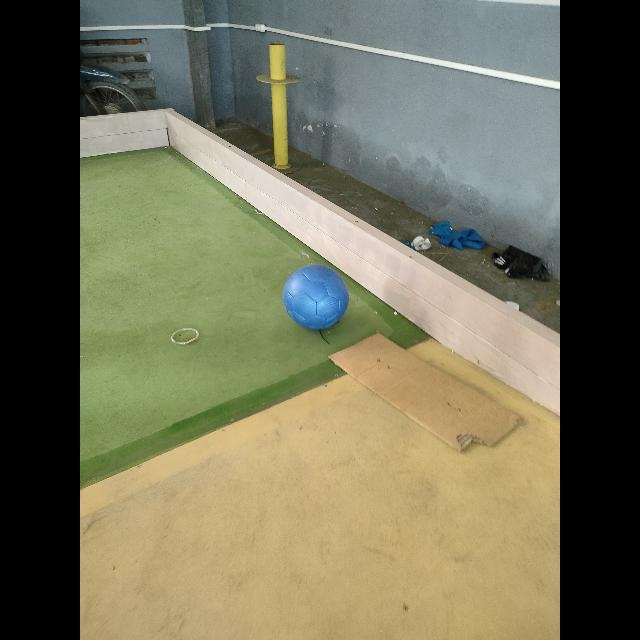B: (284, 265, 348, 329)
